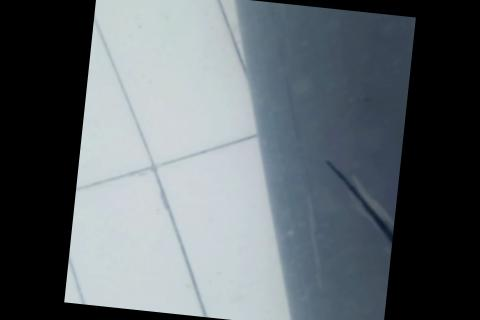keretakan: (315, 159, 400, 252)
